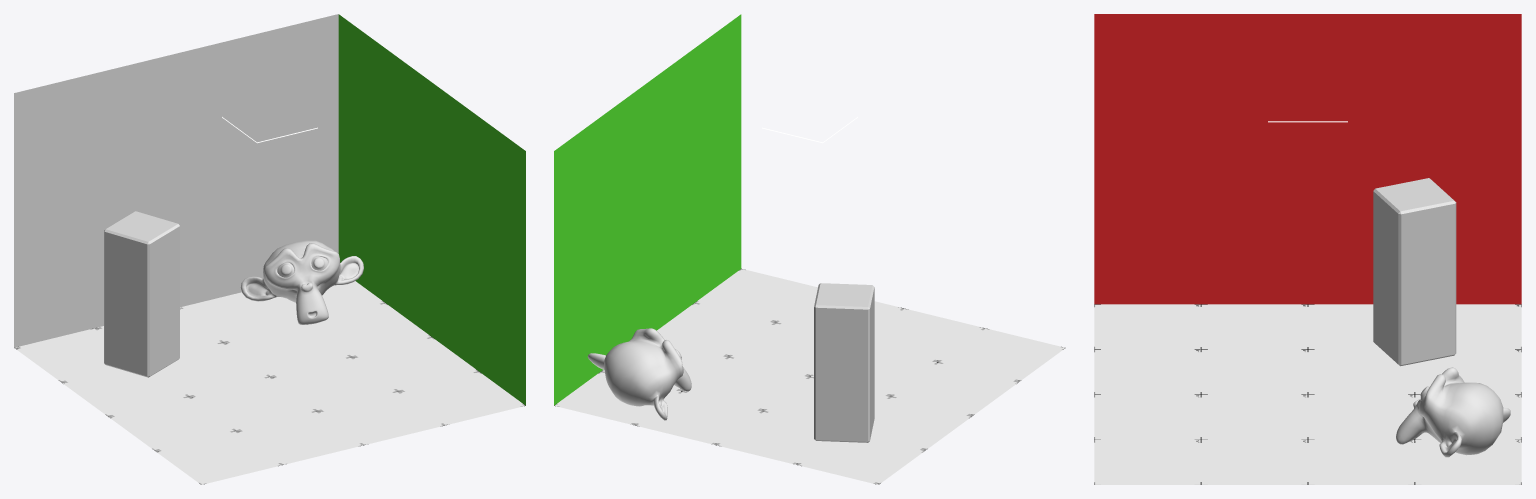
File: cornellBox-Eevee.gltf
3 views of the same model, side by side, from view 1: azimuth 30°, elevation 25°; view 2: azimuth 150°, elevation 25°; view 3: azimuth 270°, elevation 25° (orthographic). The views are drawn at different scales.
Visible parts, largest first — view 1: cornellBox.000, bloc.000, suzanne.000; view 2: cornellBox.000, bloc.000, suzanne.000; view 3: cornellBox.000, bloc.000, suzanne.000.
Boxes of the visible parts, x1,y1,x2,y2 form: cornellBox.000: (14,14,525,484); bloc.000: (104,211,179,377); suzanne.000: (240,240,363,324); cornellBox.000: (554,14,1065,484); bloc.000: (814,283,874,442); suzanne.000: (587,328,691,420); cornellBox.000: (1094,14,1521,484); bloc.000: (1373,178,1456,366); suzanne.000: (1396,367,1510,457).
Bounding box in the file's own units: 4 × 3 × 4.
7 materials, 1 textured.
